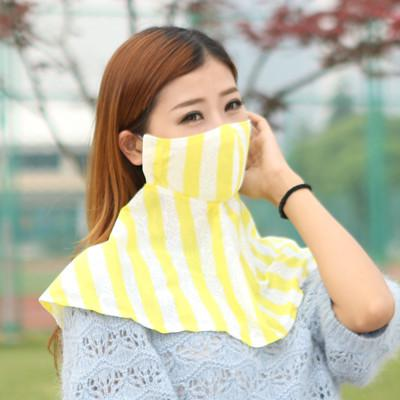OK: (138, 82, 252, 196)
